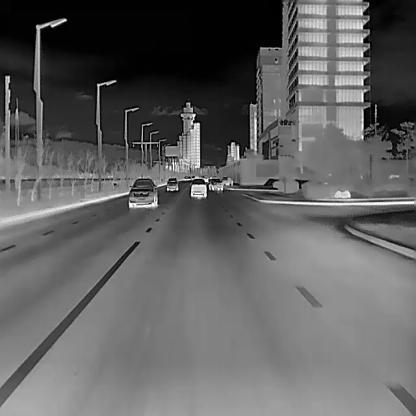car: (127, 177, 158, 208), (189, 178, 206, 198), (207, 177, 223, 190), (166, 176, 177, 190), (224, 177, 232, 185)
